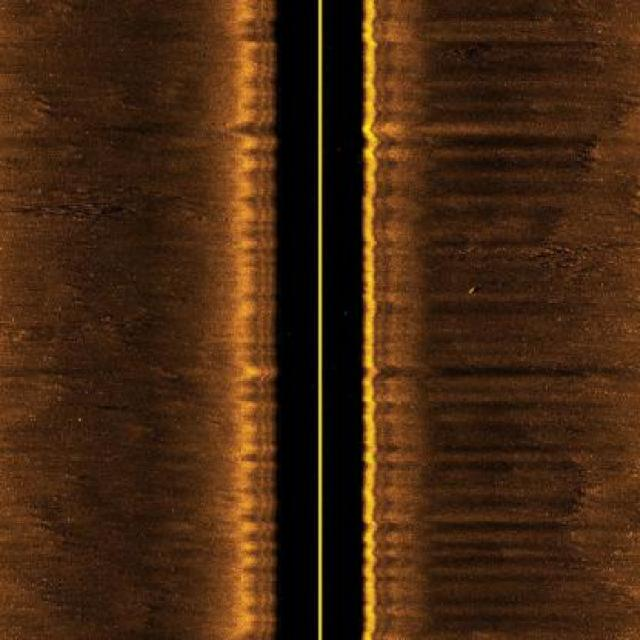mine: (466, 284, 482, 294)
